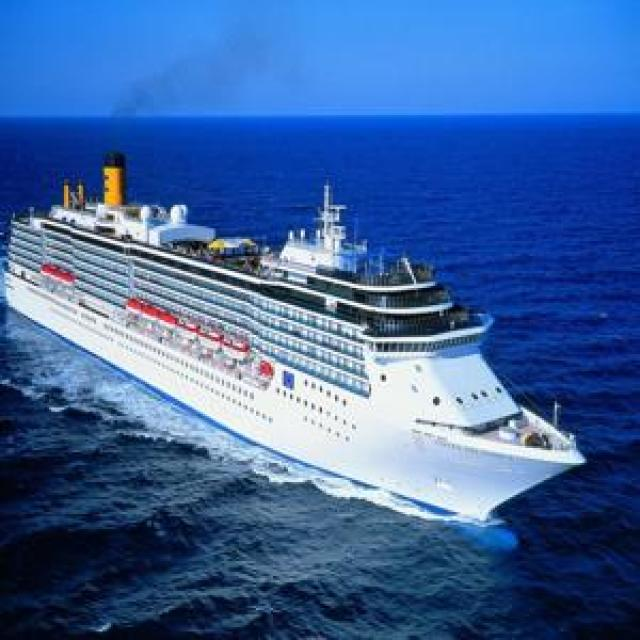passenger ship: (6, 143, 586, 530)
